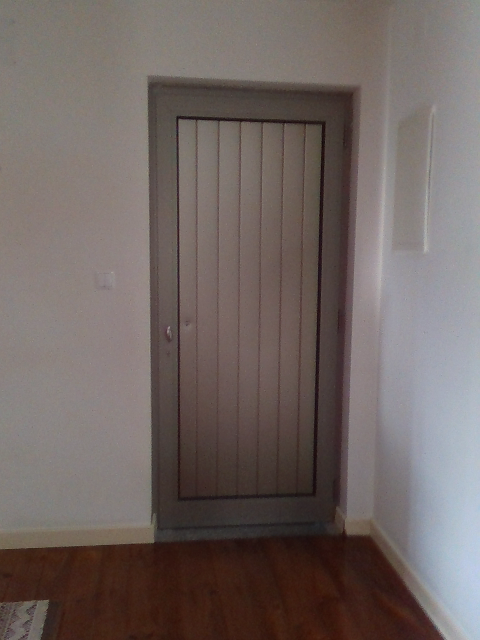closed: (144, 76, 361, 547)
